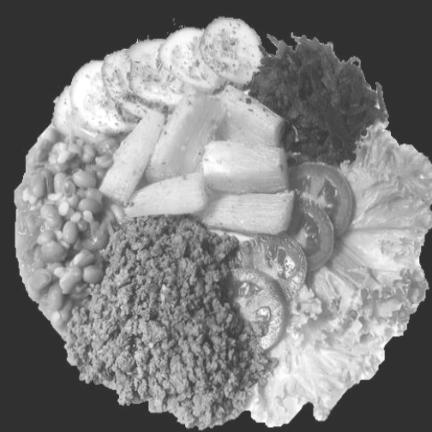beans: (16, 125, 119, 336)
beet: (247, 40, 383, 165)
cassava: (104, 85, 287, 232)
green_vegetables: (57, 20, 262, 141)
meat: (65, 214, 275, 424)
salad: (245, 124, 432, 428)
tomato: (230, 164, 354, 349)
